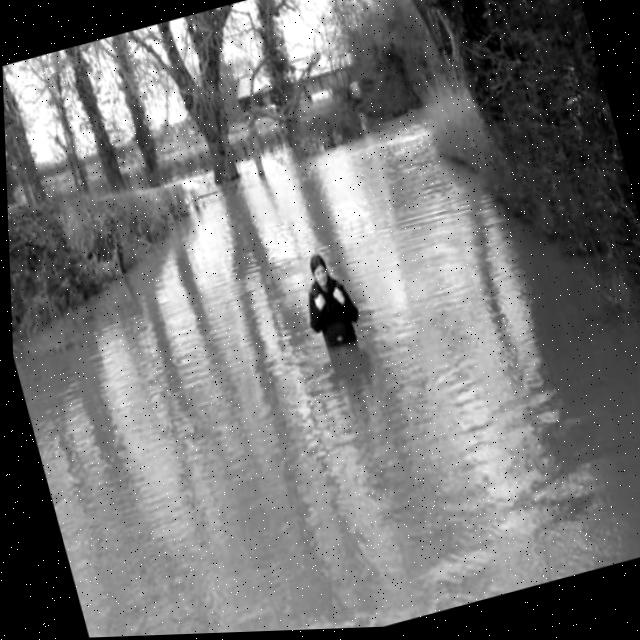civilian: (270, 225, 394, 386)
